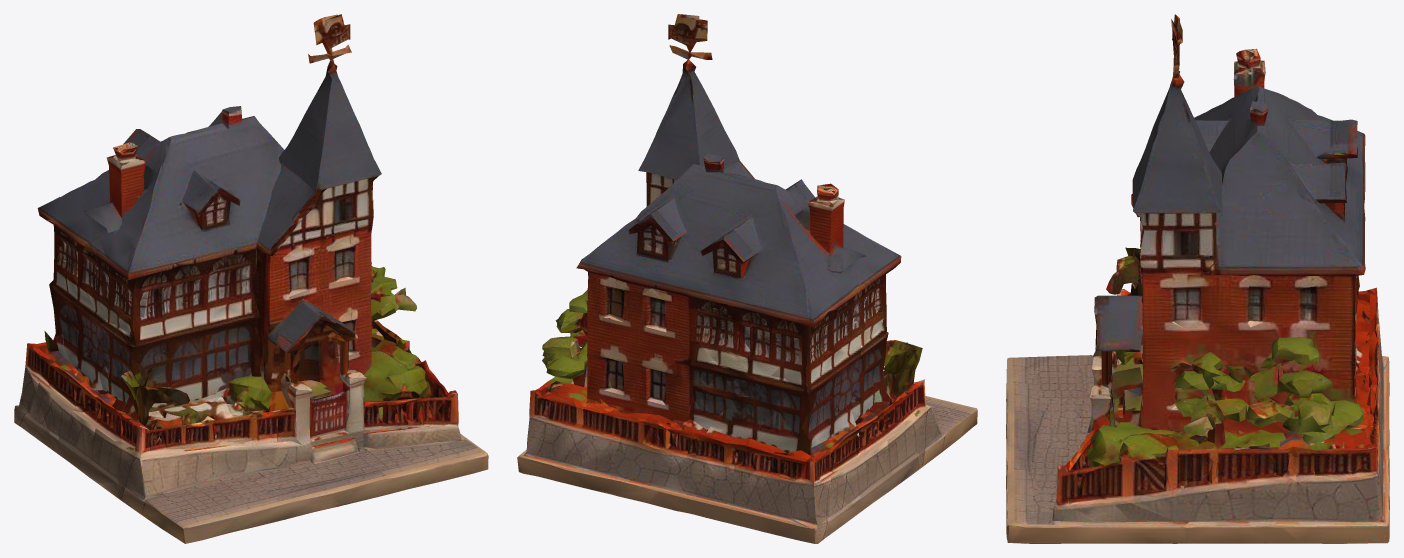
Rendered from weathercock-house.glb.
The picture shows the model from 3 angles, left to right: view 1: azimuth 30°, elevation 25°; view 2: azimuth 150°, elevation 25°; view 3: azimuth 270°, elevation 25°; orthographic projection. The views are drawn at different scales.
Parts seen in each view (by area): view 1: logan-textured.obj; view 2: logan-textured.obj; view 3: logan-textured.obj.
Boxes of the visible parts, x1,y1,x2,y2 form: logan-textured.obj: (14,14,488,543); logan-textured.obj: (517,14,977,543); logan-textured.obj: (1006,14,1389,543).
Size of the model in its own units: 0.7903 by 1 by 0.7317.
1 material, 1 textured.
